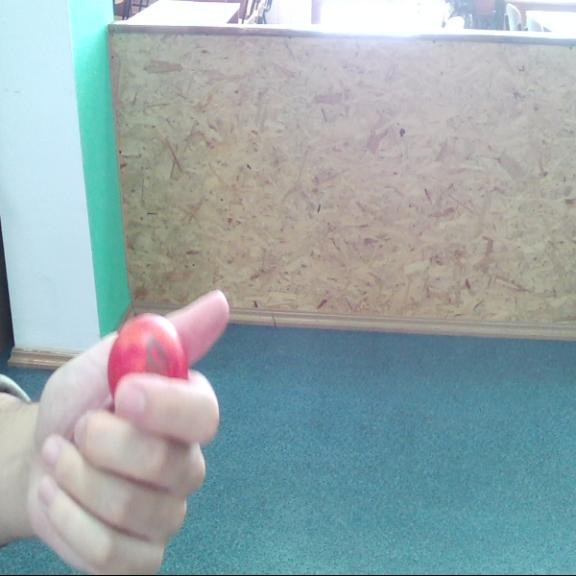ball: (110, 314, 186, 411)
